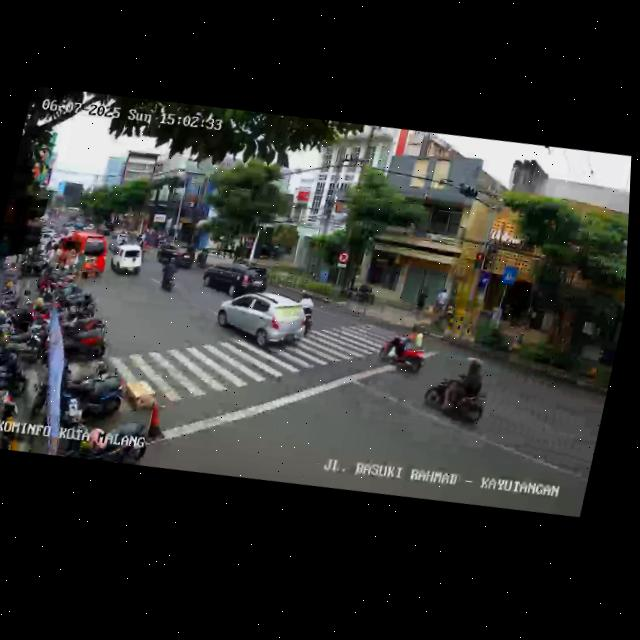car: (211, 281, 312, 360), (50, 226, 111, 284), (199, 254, 271, 303), (107, 239, 146, 279), (153, 238, 196, 272)
motorcycle: (417, 354, 496, 435), (375, 321, 432, 377), (293, 290, 319, 345), (155, 257, 182, 295)
